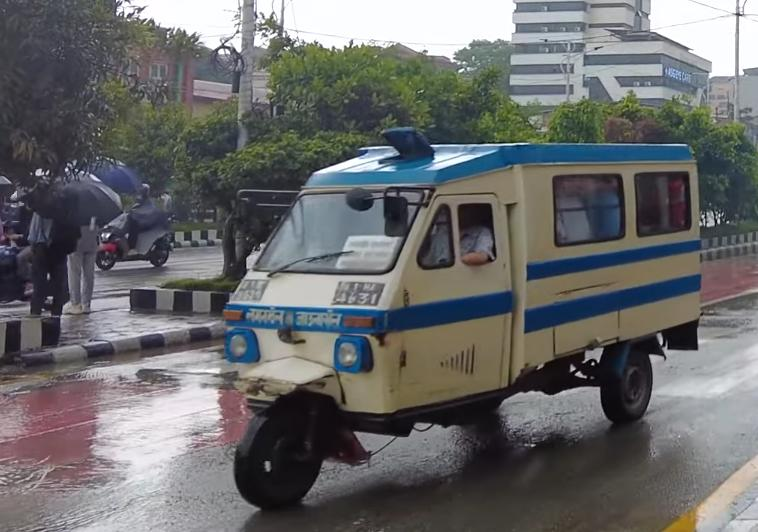tempo: (201, 124, 708, 517)
